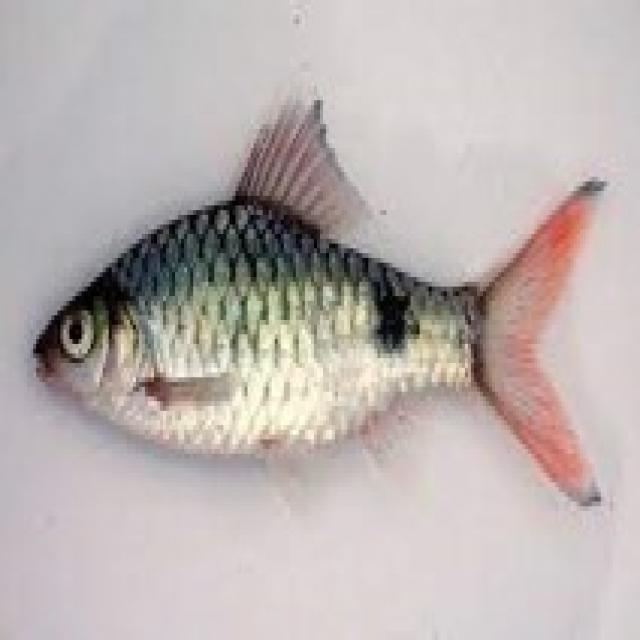Black-Spotted-Barb: (25, 30, 640, 532)
